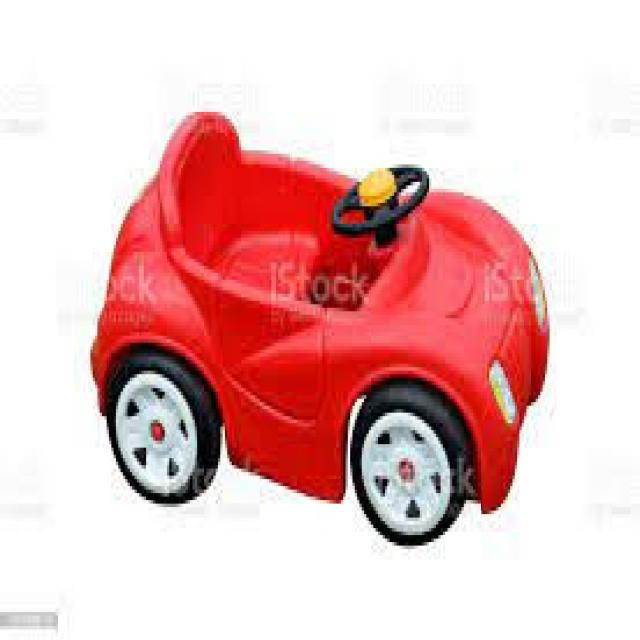Car: (90, 112, 547, 542)
